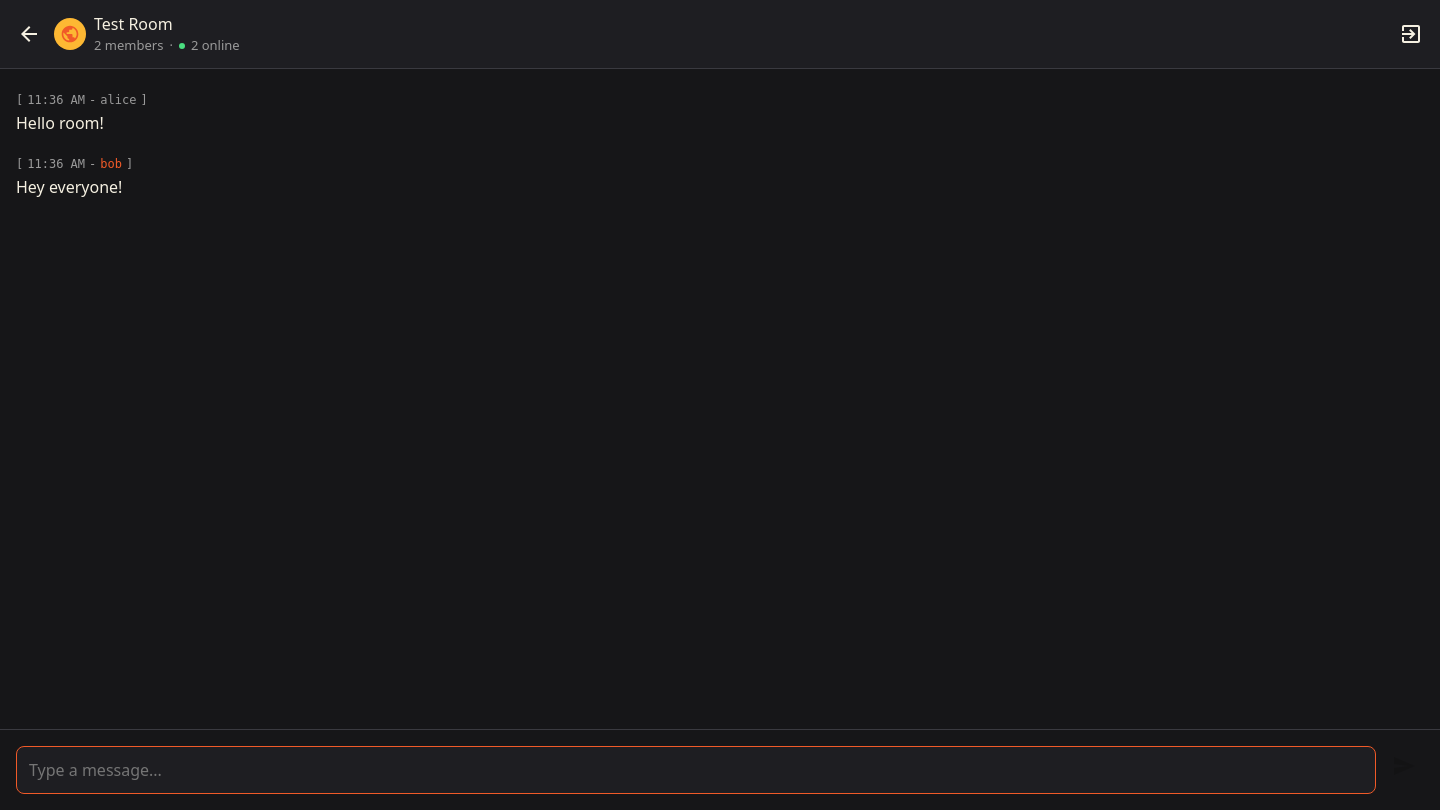
Test: RoomChat component › leave room › shows leave confirmation dialog when leave button clicked
The image size is (1440, 810).
What coordinates should you click on to do the following:
click the button named "leave room"
I would click on:
 (1411, 34)
Its box is top-left (1394, 17), bottom-right (1428, 51).
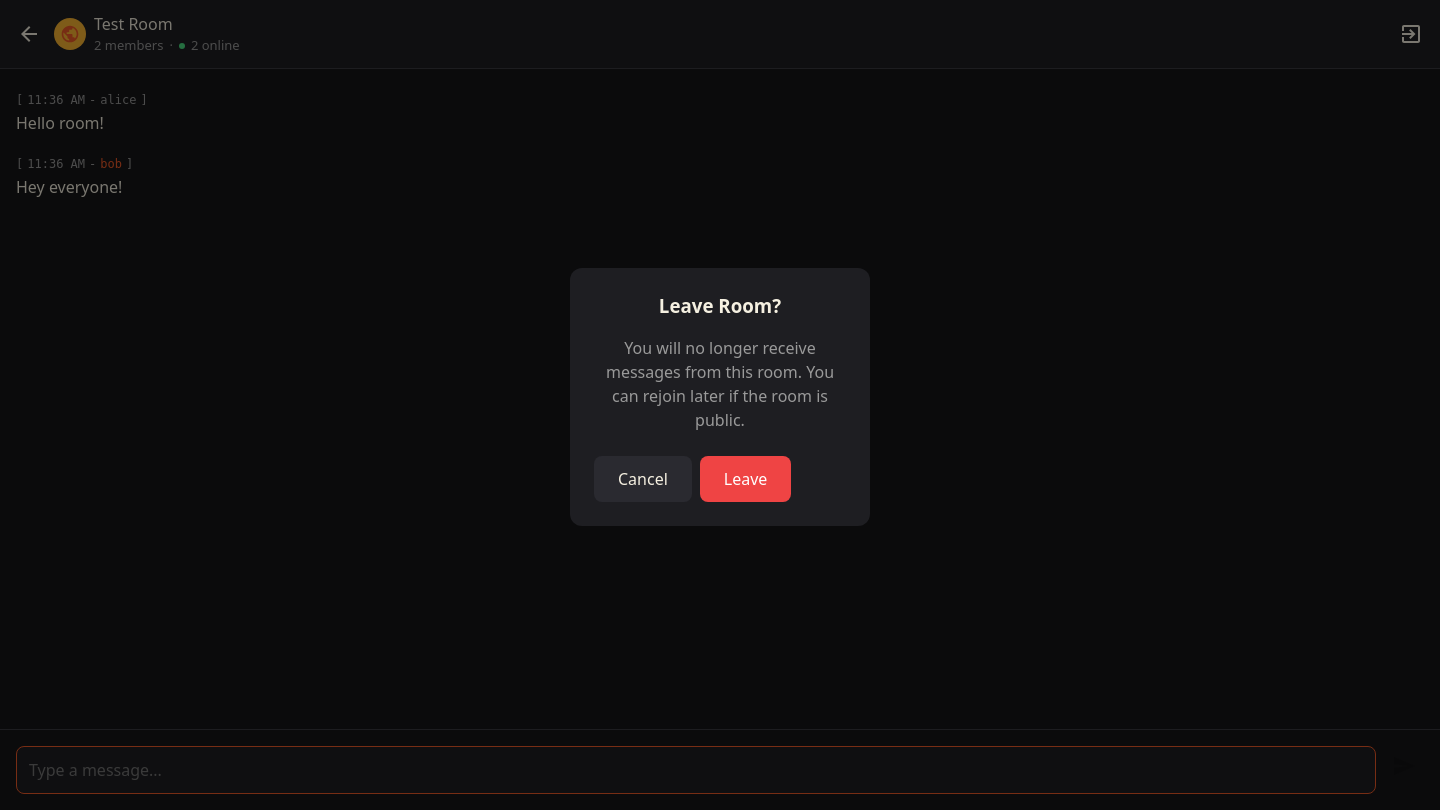
Check: the heading "Leave Room?" is shown, box top-left (659, 293), bottom-right (781, 318)
